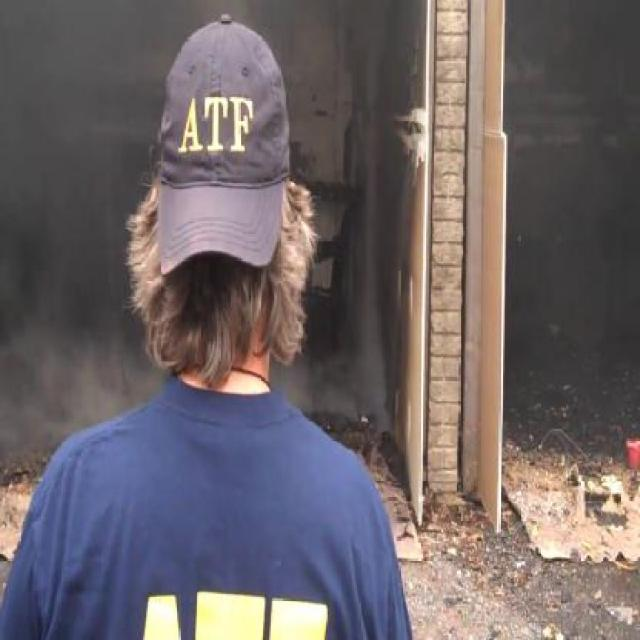smoke: (28, 73, 180, 458), (309, 93, 448, 470)
